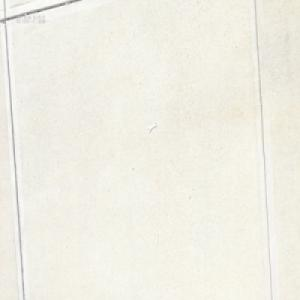Wrench: (148, 122, 156, 132)
